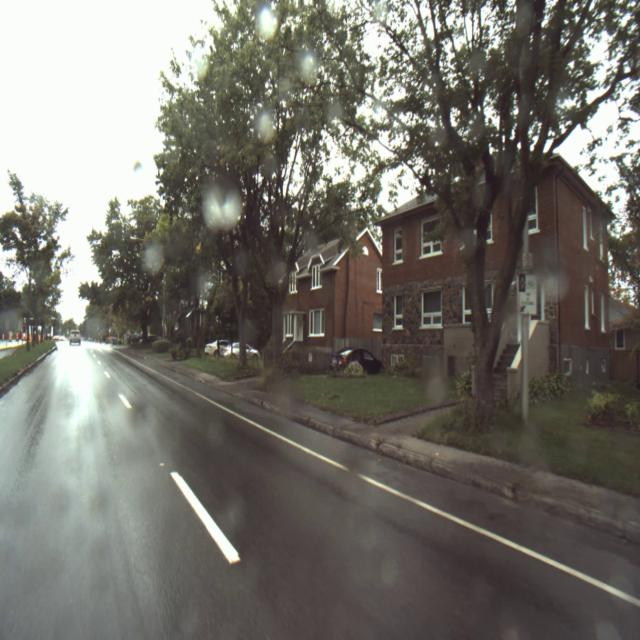car: (329, 348, 382, 377), (220, 342, 260, 365), (205, 338, 228, 357), (68, 330, 82, 344)
